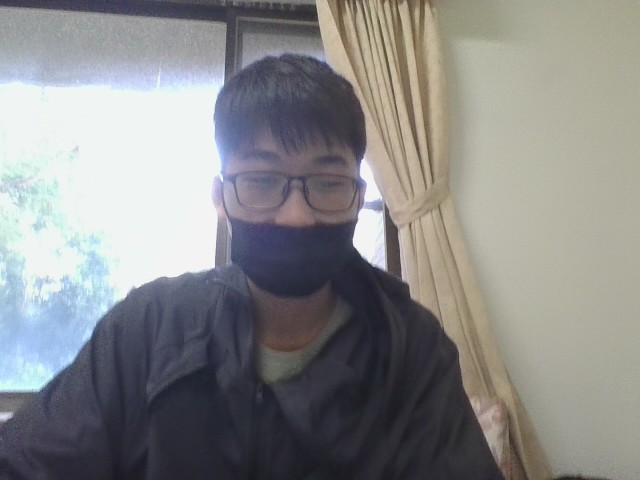No_Helmet: (207, 47, 374, 232)
person: (1, 34, 556, 479)
